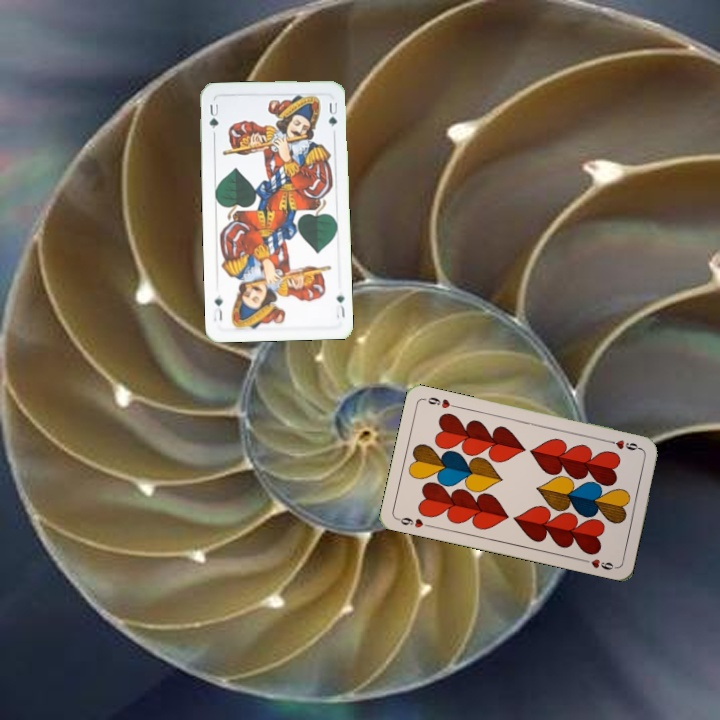GU: (205, 100, 221, 131), (332, 291, 347, 321)
H9: (393, 513, 434, 530), (604, 436, 644, 453)
